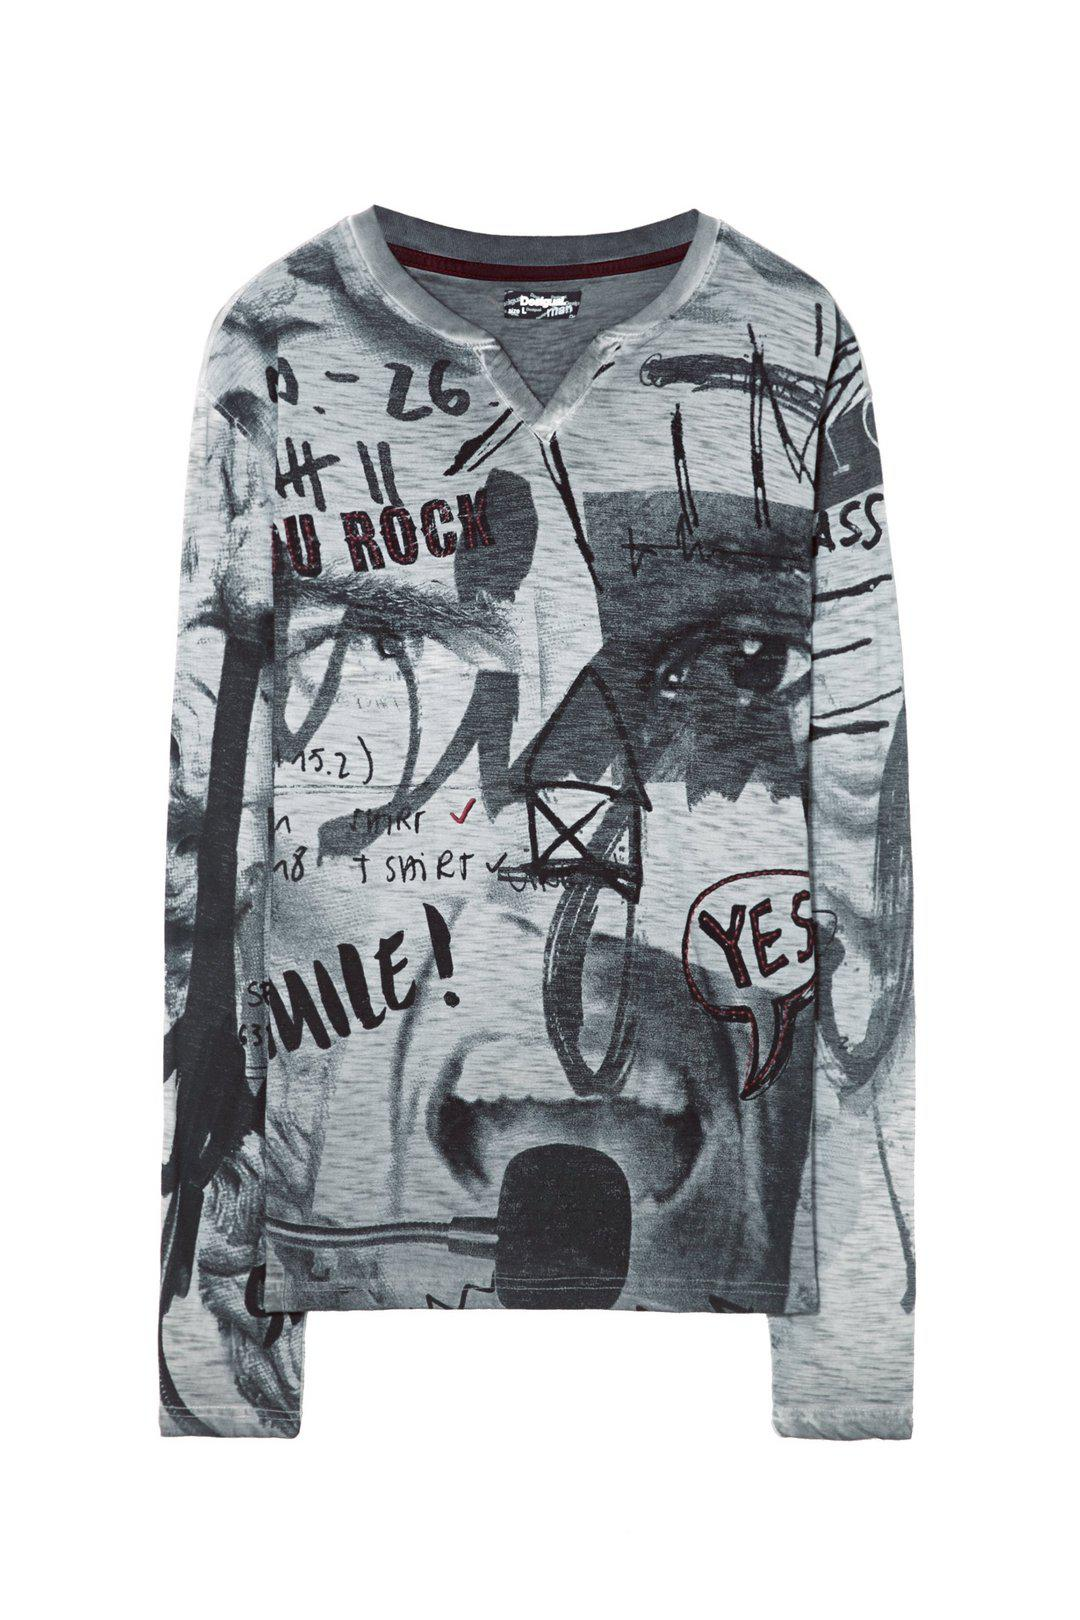teeshirt: (106, 196, 1000, 1477)
